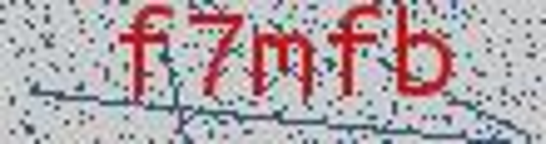7: (186, 3, 245, 106)
b: (389, 1, 455, 105)
f: (117, 1, 176, 110), (323, 1, 383, 107)
m: (250, 13, 320, 111)
